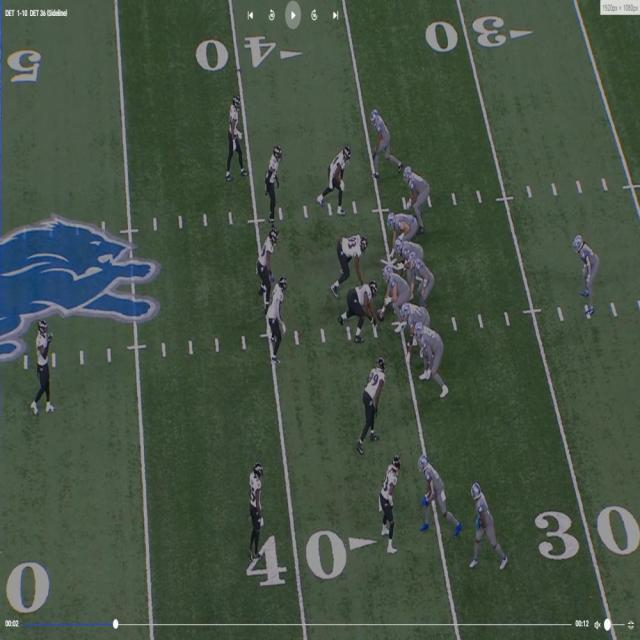center: (383, 267, 408, 330)
db: (378, 458, 400, 547), (226, 95, 248, 178), (35, 317, 53, 413), (250, 456, 264, 560), (264, 140, 282, 220)
lb: (316, 146, 354, 214), (266, 271, 289, 350), (259, 228, 277, 312)
qb: (408, 251, 428, 304)
skill: (417, 454, 457, 535), (469, 479, 497, 566), (572, 234, 598, 316), (371, 103, 394, 166), (406, 168, 429, 217)
